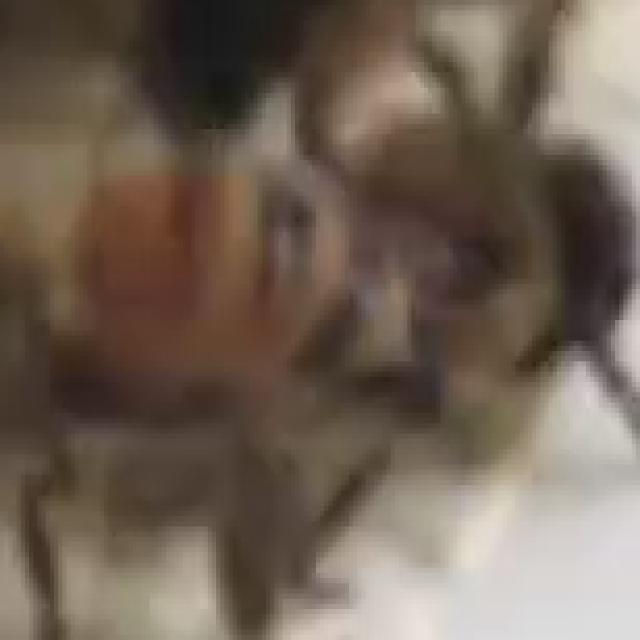honeybee: (29, 99, 640, 590)
